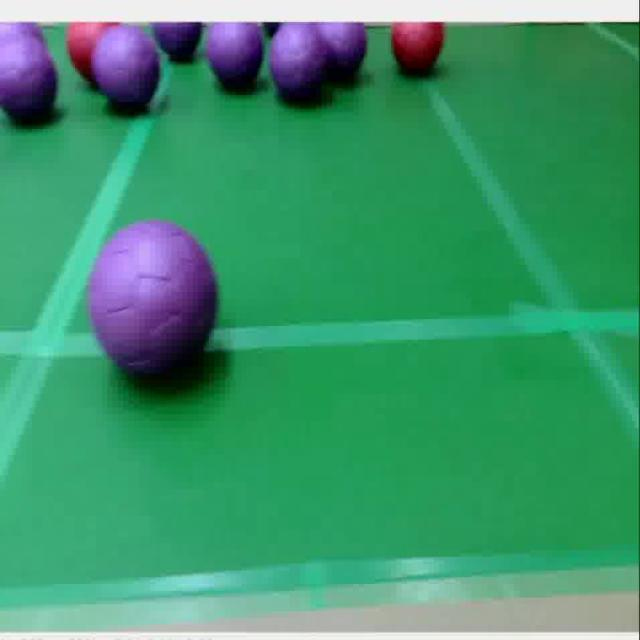purple_ball: (86, 218, 220, 386), (268, 23, 332, 111), (97, 30, 162, 114), (0, 42, 61, 125), (208, 23, 266, 93), (320, 21, 369, 85), (152, 24, 203, 60), (0, 21, 45, 42)
red_ball: (386, 19, 448, 78), (68, 22, 95, 85)
